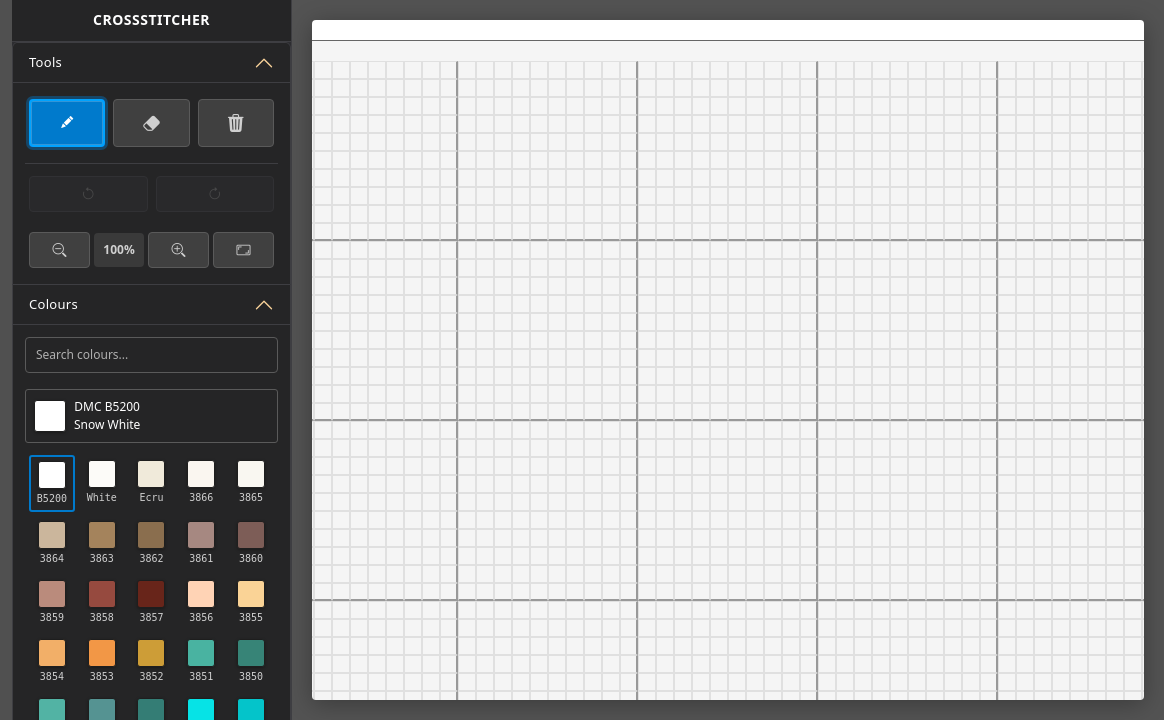
Test case: CrossStitchEditor Integration Tests › Zoom Controls › should zoom in and out when clicking zoom buttons
Expected: the text with class "zoom-level" reads "100%", [94,233,144,267]
Note: Click zoom in
Click the button named "Zoom In (Ctrl+=)": [178, 250] box [148,232,209,268]
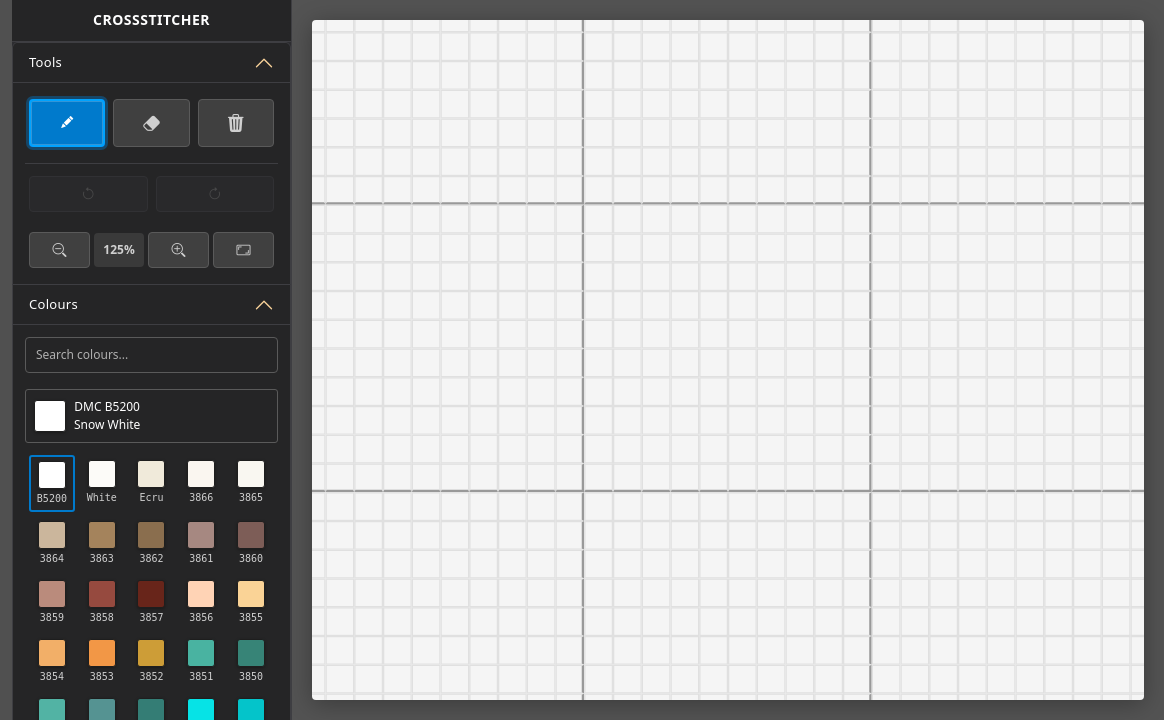
Expected: the text with class "zoom-level" reads "125%", [94,233,144,267]
Note: Click zoom out
Click the button named "Zoom Out (Ctrl+-)": [60, 250] box [29,232,90,268]
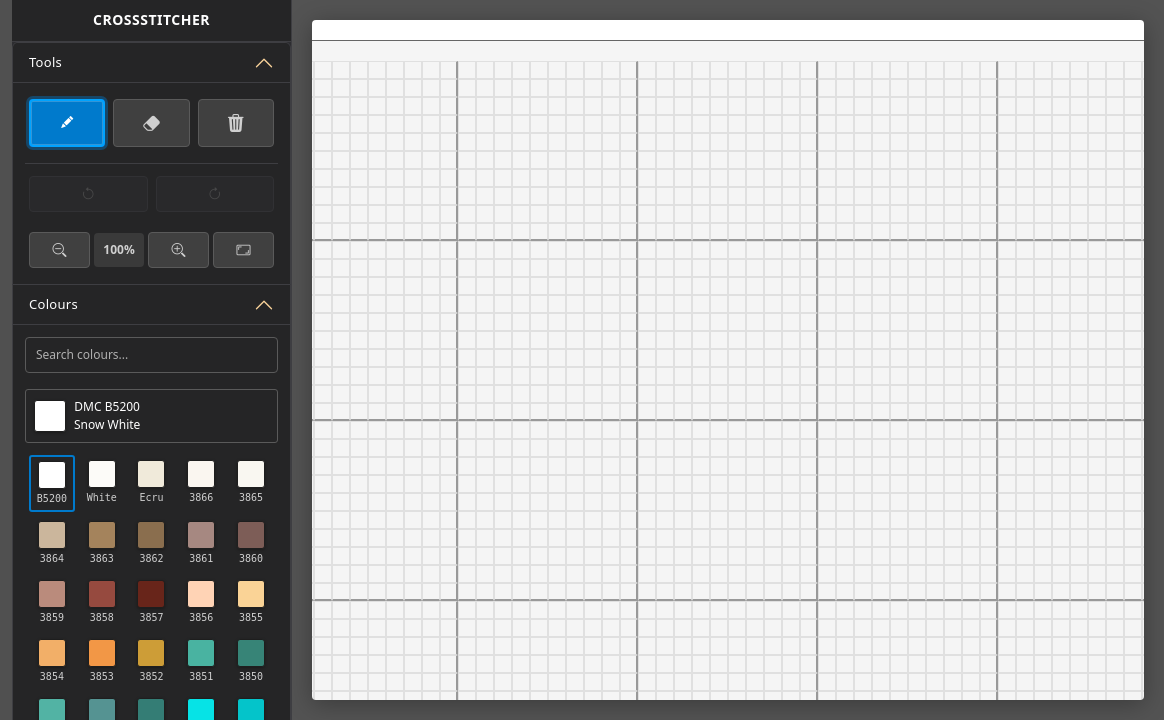
Expected: the text with class "zoom-level" reads "100%", [94,233,144,267]
